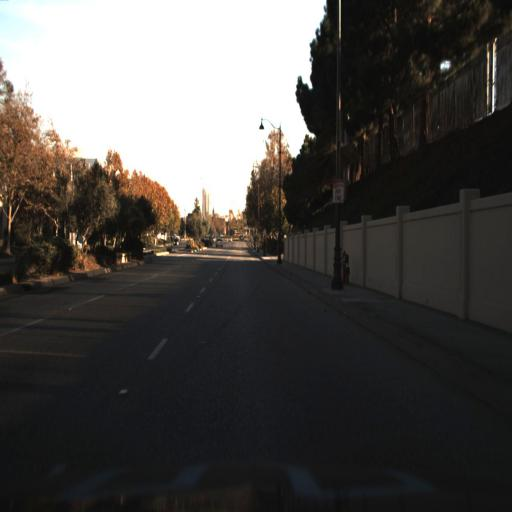car: (212, 234, 226, 257)
